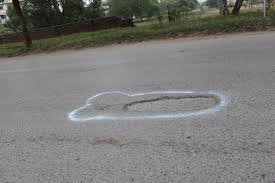pothole: (118, 87, 229, 128)
